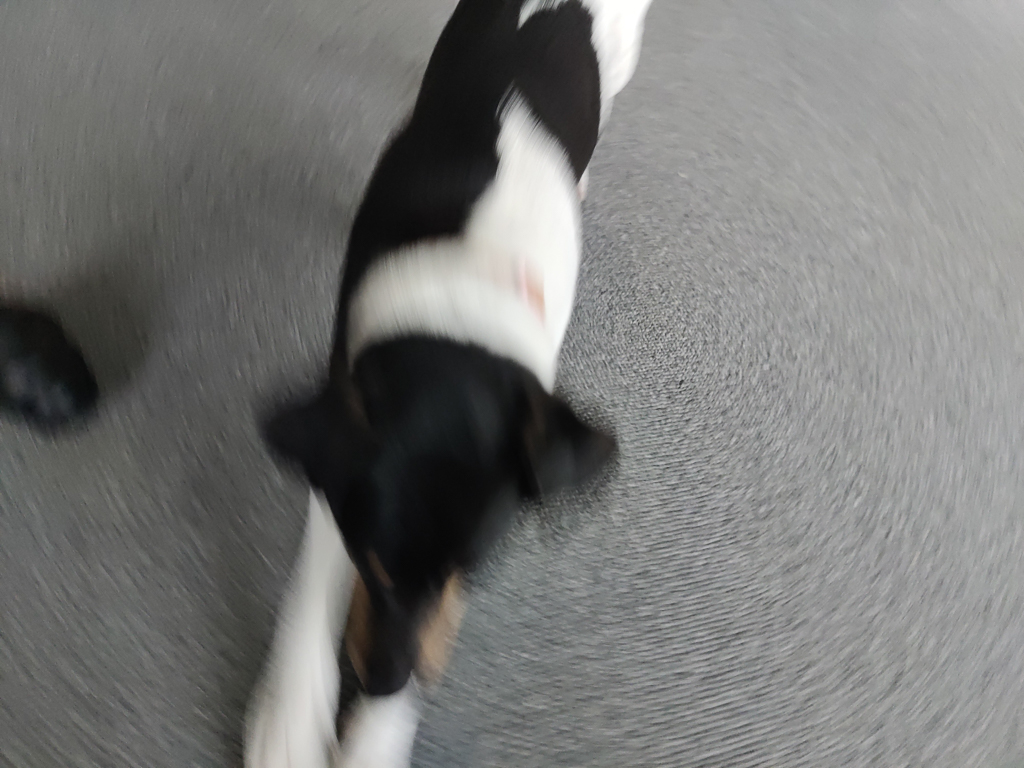Dog: (210, 0, 671, 768)
